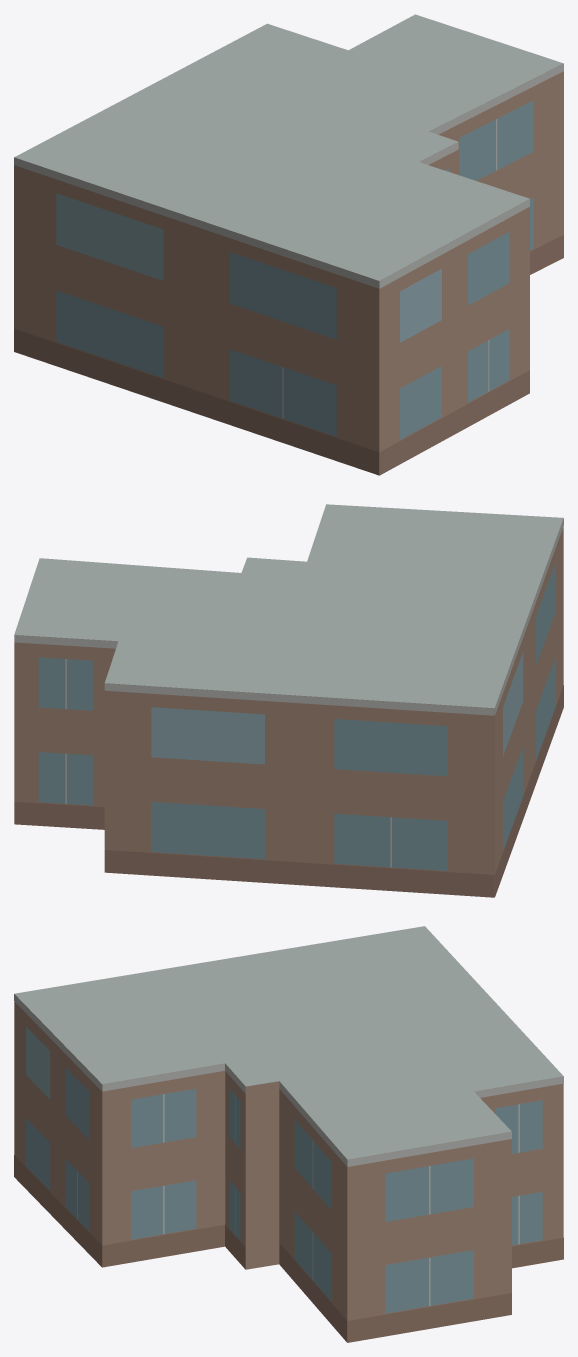
File: survey-upis-32994648.glb
3 views of the same model, one above another, from view 1: azimuth 30°, elevation 25°; view 2: azimuth 150°, elevation 25°; view 3: azimuth 270°, elevation 25° (orthographic). The views are drawn at different scales.
Parts seen in each view (by area): view 1: survey-upis-32994648.tmp; view 2: survey-upis-32994648.tmp; view 3: survey-upis-32994648.tmp.
Boxes of the visible parts, x1,y1,x2,y2 form: survey-upis-32994648.tmp: (14,14,563,475); survey-upis-32994648.tmp: (14,504,563,897); survey-upis-32994648.tmp: (14,926,563,1342).
Size of the model in its own units: 16.7 by 6.1 by 16.6.
